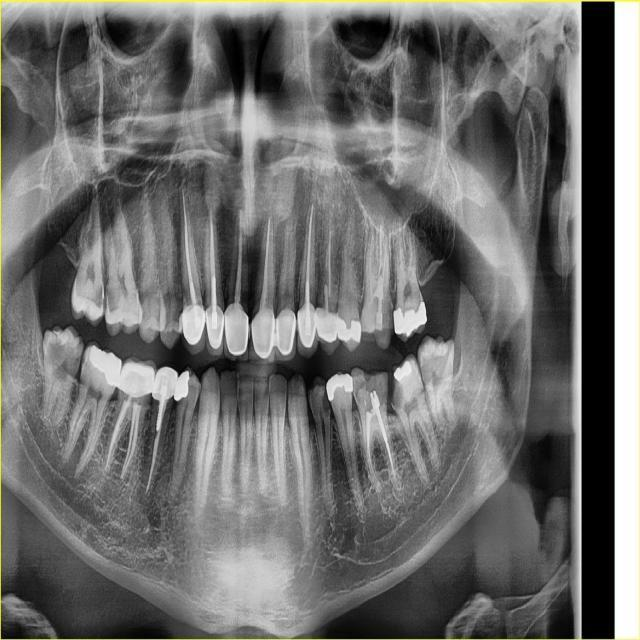71: (367, 388, 390, 445), (117, 376, 140, 429), (184, 280, 203, 331), (153, 376, 170, 433), (374, 273, 384, 330), (211, 273, 218, 329), (304, 280, 310, 335), (323, 282, 329, 314)
74: (100, 400, 131, 470), (121, 400, 142, 480), (122, 403, 143, 480), (260, 214, 277, 309), (178, 187, 194, 284), (145, 422, 162, 496), (234, 209, 244, 306), (365, 411, 377, 482), (384, 438, 397, 482), (306, 203, 313, 283), (210, 211, 216, 279), (369, 236, 373, 303), (381, 244, 387, 287), (379, 225, 383, 277), (328, 232, 331, 297)
NucleOSS Implant: (82, 338, 132, 390), (388, 300, 432, 340), (326, 372, 354, 401), (389, 360, 415, 385), (335, 319, 362, 342), (173, 369, 191, 403)
Sterngold Implant: (352, 366, 387, 413), (390, 370, 407, 412), (103, 279, 119, 317), (43, 335, 65, 362), (89, 282, 104, 315), (320, 387, 332, 418), (72, 346, 82, 373), (79, 349, 90, 369), (417, 291, 423, 302)
Straumann Implant: (359, 298, 396, 350)
Zimmer Implant: (113, 353, 160, 401), (223, 303, 250, 361), (250, 306, 276, 362), (181, 302, 207, 356), (295, 301, 319, 359), (313, 306, 340, 354), (275, 308, 296, 363), (151, 364, 179, 403), (204, 304, 225, 354)
